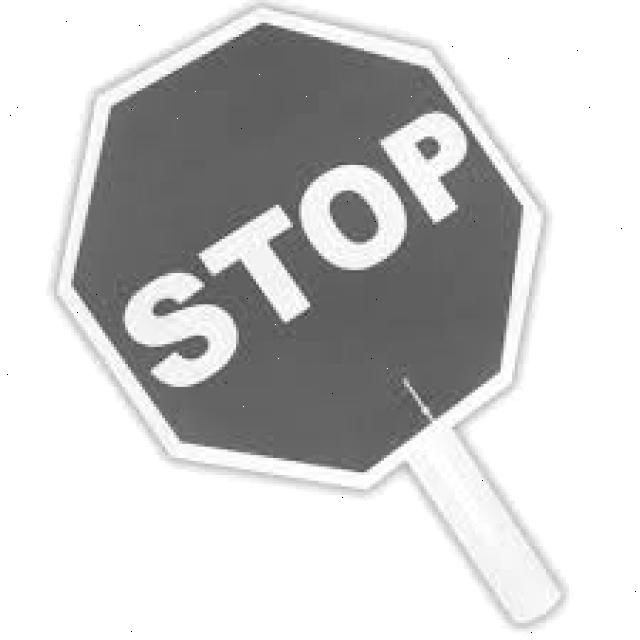Stop-sign: (32, 0, 550, 478)
